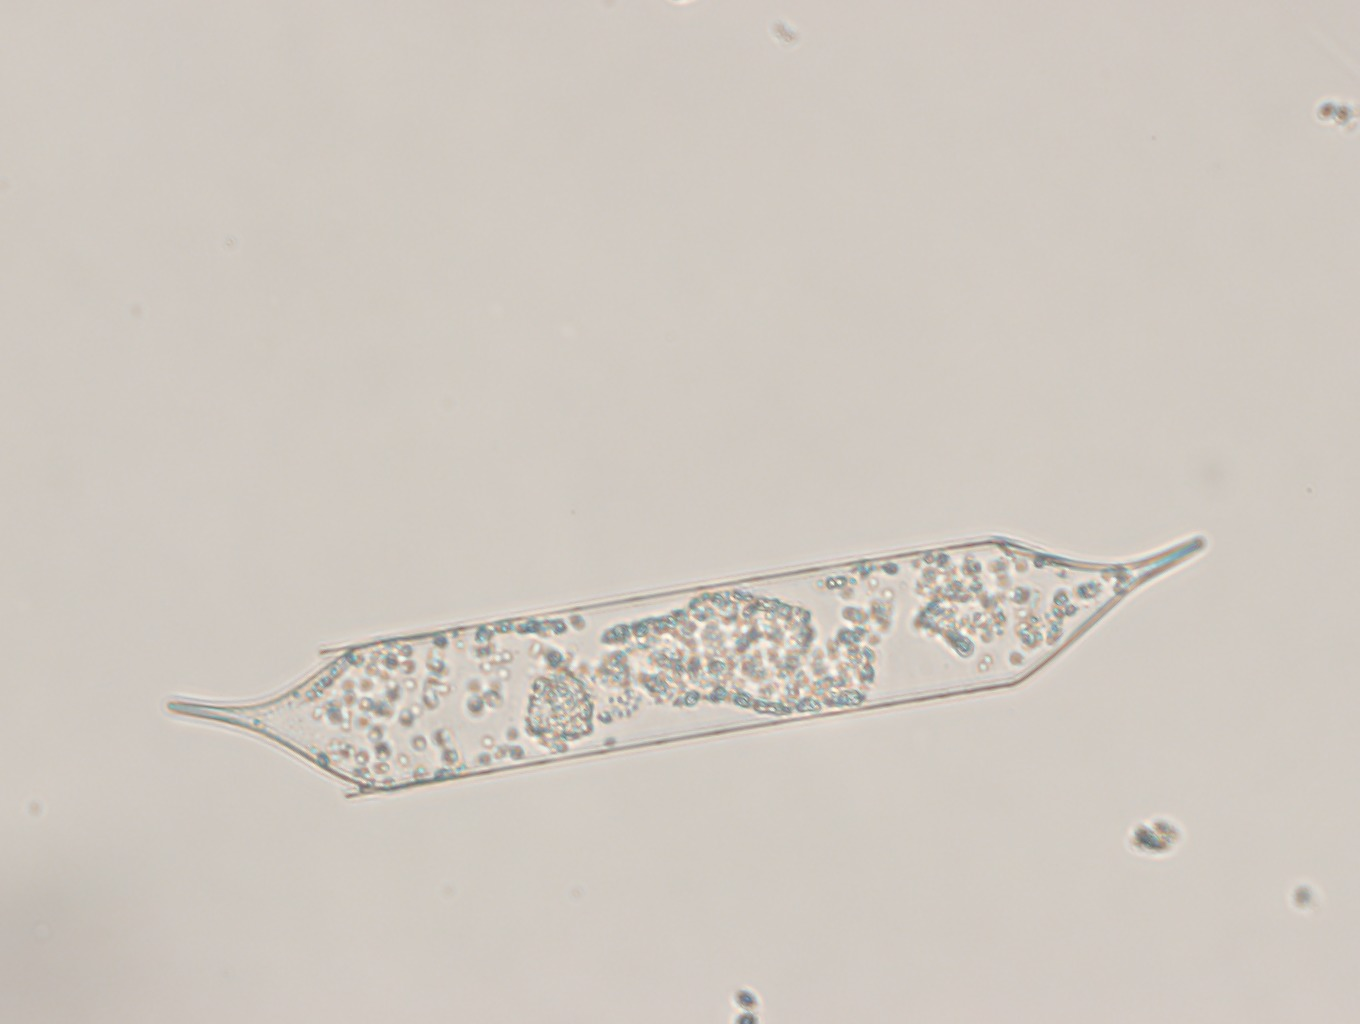rhizosolenia: (149, 529, 1222, 809)
